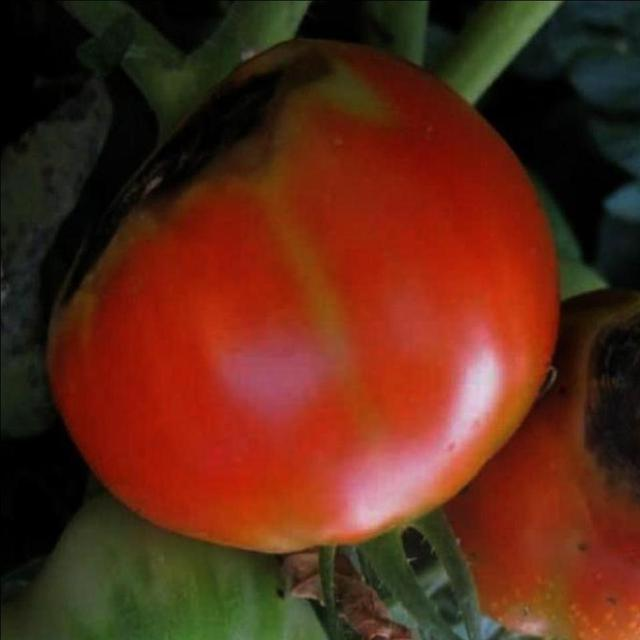Blossom End Rot Fruit: (43, 141, 402, 291)
